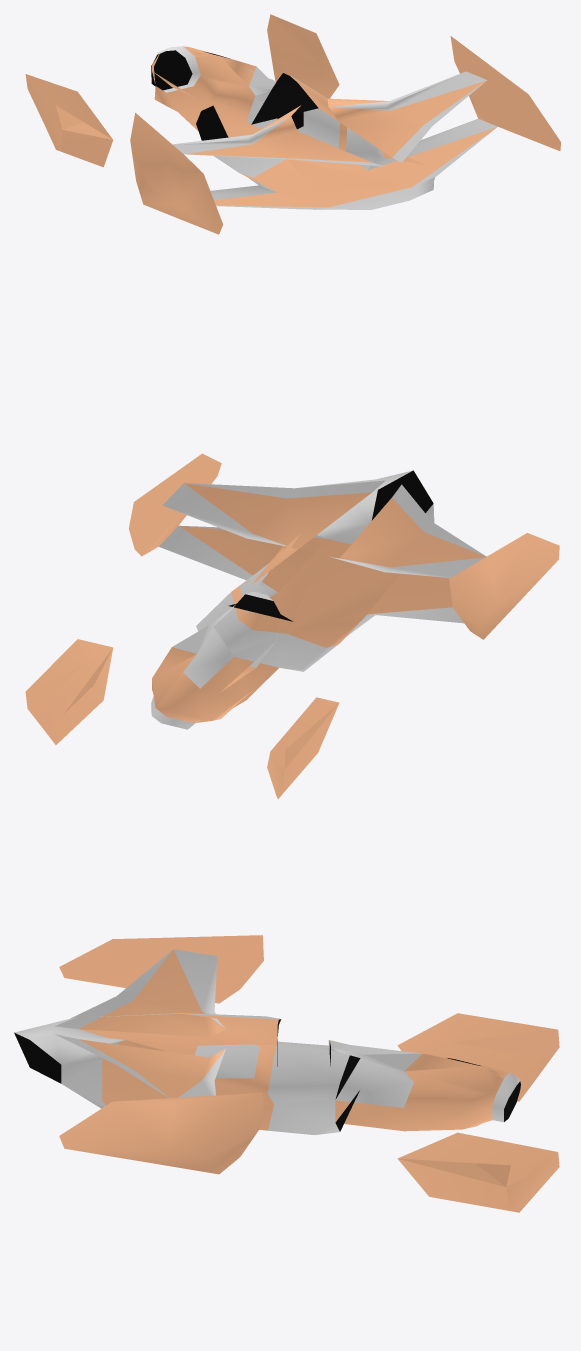
Rendered from ps2_save-icons_powerdrome.glb.
3 renders of one model, top to bottom at view 1: azimuth 30°, elevation 25°; view 2: azimuth 150°, elevation 25°; view 3: azimuth 270°, elevation 25°, orthographic. The views are drawn at different scales.
Visible parts, largest first — view 1: icon.ico; view 2: icon.ico; view 3: icon.ico.
Boxes of the visible parts, box(x1,y1,x2,y2) form: icon.ico: box(25, 14, 560, 234); icon.ico: box(25, 453, 559, 798); icon.ico: box(14, 935, 559, 1212).
Size of the model in its own units: 3.52 by 2.16 by 4.57.
1 material, 1 textured.
